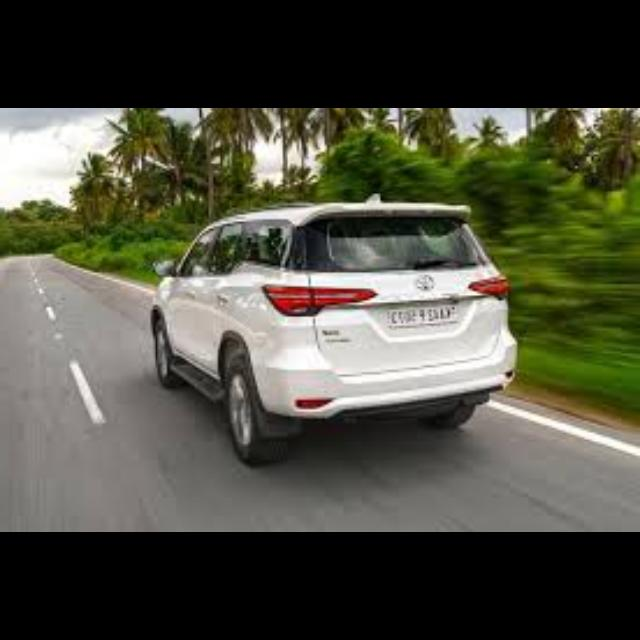number-plate: (387, 303, 461, 326)
vehicles: (151, 191, 527, 465)
